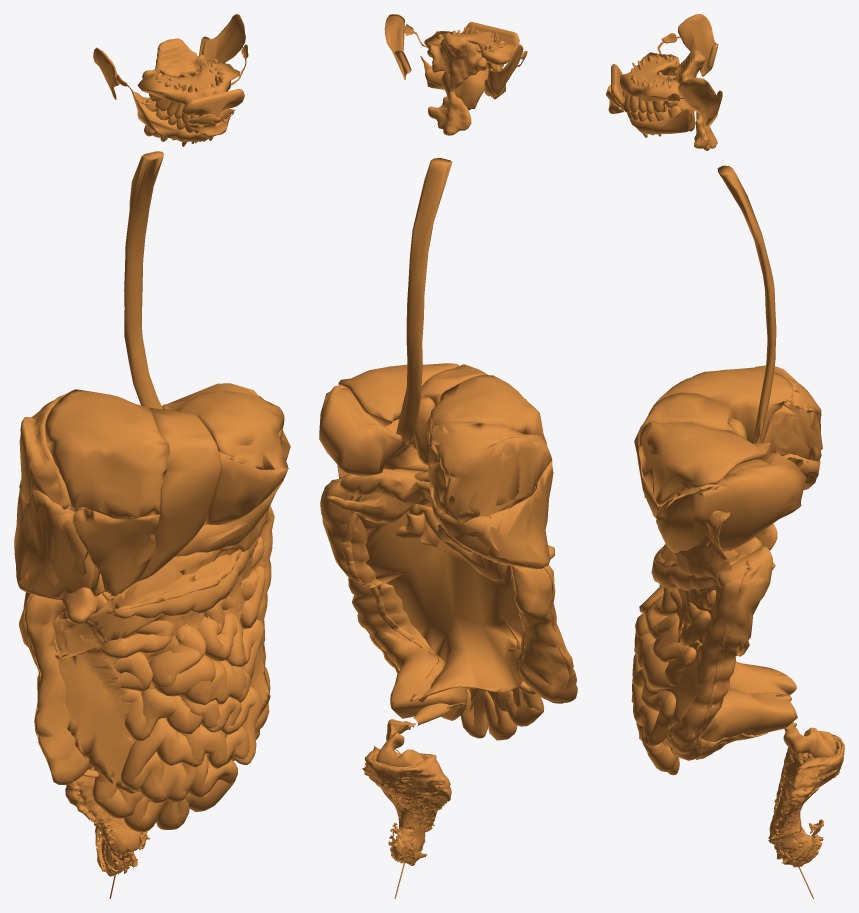
The model's file is digestive.glb.
3 renders of one model, left to right at view 1: azimuth 30°, elevation 25°; view 2: azimuth 150°, elevation 25°; view 3: azimuth 270°, elevation 25°, orthographic. The views are drawn at different scales.
Visible parts, largest first — view 1: W_ZA4AEB584D, W_FJ2824, W_FJ2820, W_FJ2566, W_FJ2818, W_FJ2563, W_FJ2821, W_FJ2822, W_FJ2572, W_FJ2409, W_FJ2819, W_FJ2564 (+33 smaller); view 2: W_FJ3398, W_FJ2567, W_FJ1858, W_FJ2564, W_FJ2566, W_FJ2563, W_FJ2823, W_FJ2824, WU_mesorectum, W_FJ2822, W_FJ2818, W_FJ2409 (+18 smaller); view 3: W_FJ2567, W_FJ2564, W_FJ2818, W_ZA4AEB584D, W_FJ2824, W_FJ2563, WU_mesorectum, W_FJ2820, W_FJ2823, W_FJ1252, W_FJ3398, W_FJ1858 (+19 smaller).
Boxes of the visible parts, left/top/right/bottom form: W_ZA4AEB584D: left=53, top=509, right=270, bottom=801; W_FJ2824: left=45, top=389, right=169, bottom=519; W_FJ2820: left=136, top=407, right=220, bottom=582; W_FJ2566: left=19, top=592, right=90, bottom=784; W_FJ2818: left=162, top=391, right=288, bottom=469; W_FJ2563: left=124, top=151, right=163, bottom=409; W_FJ2821: left=72, top=509, right=159, bottom=596; W_FJ2822: left=14, top=488, right=104, bottom=596; W_FJ2572: left=93, top=518, right=266, bottom=618; W_FJ2409: left=14, top=487, right=103, bottom=600; W_FJ2819: left=205, top=451, right=288, bottom=525; W_FJ2564: left=169, top=383, right=290, bottom=556; W_FJ3398: left=352, top=470, right=523, bottom=703; W_FJ2567: left=320, top=478, right=467, bottom=720; W_FJ1858: left=428, top=421, right=552, bottom=522; W_FJ2564: left=319, top=384, right=428, bottom=476; W_FJ2566: left=511, top=565, right=577, bottom=702; W_FJ2563: left=396, top=158, right=452, bottom=444; W_FJ2823: left=430, top=421, right=551, bottom=522; W_FJ2824: left=427, top=374, right=545, bottom=447; WU_mesorectum: left=362, top=745, right=451, bottom=831; W_FJ2822: left=434, top=461, right=553, bottom=566; W_FJ2818: left=338, top=363, right=458, bottom=426; W_FJ2409: left=431, top=461, right=552, bottom=569; W_FJ2567: left=664, top=545, right=797, bottom=760; W_FJ2564: left=656, top=453, right=806, bottom=552; W_FJ2818: left=638, top=421, right=770, bottom=506; W_ZA4AEB584D: left=661, top=510, right=731, bottom=730; W_FJ2824: left=648, top=367, right=792, bottom=443; W_FJ2563: left=717, top=165, right=776, bottom=443; WU_mesorectum: left=768, top=734, right=844, bottom=844; W_FJ2820: left=634, top=392, right=735, bottom=451; W_FJ2823: left=763, top=366, right=822, bottom=461; W_FJ1252: left=620, top=52, right=680, bottom=101; W_FJ3398: left=723, top=549, right=796, bottom=695; W_FJ1858: left=755, top=365, right=821, bottom=460.
Size of the model in its own units: 0.2252 by 0.7698 by 0.1957.
